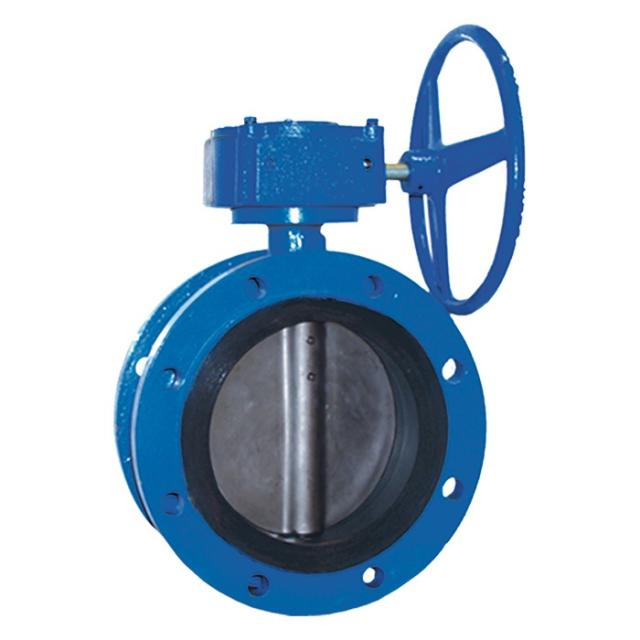Wheel Handle Valve Threaded: (374, 9, 547, 321)
